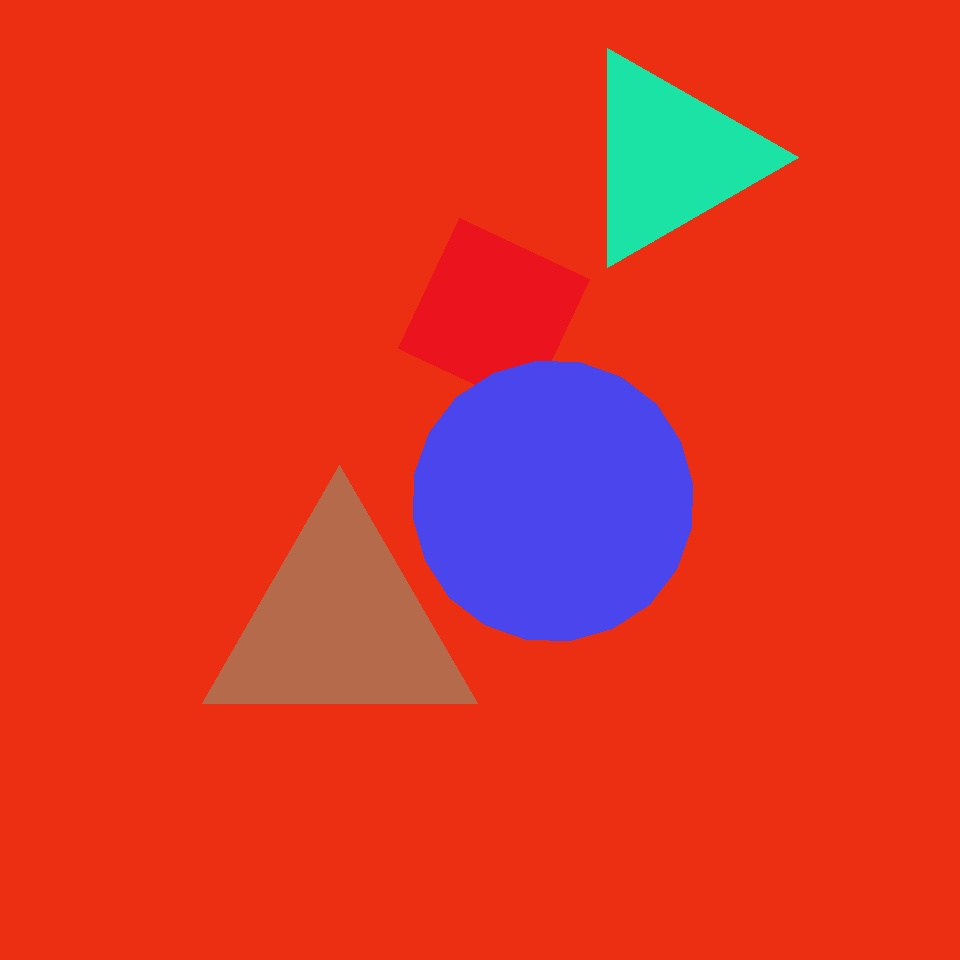circle: (203, 505, 478, 743), (576, 48, 766, 268), (218, 617, 435, 807)
square: (114, 636, 347, 869), (398, 218, 590, 410)
triangle: (414, 361, 693, 640)
